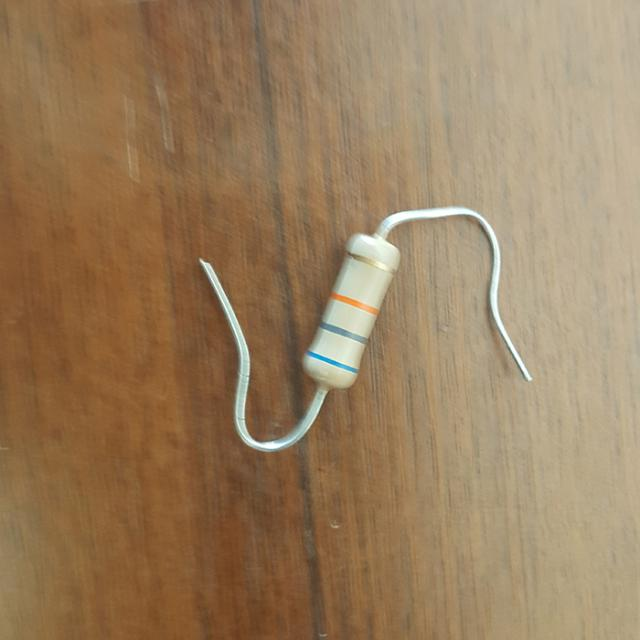blue: (306, 350, 358, 372)
gold: (346, 251, 391, 271)
grey: (321, 321, 368, 344)
orange: (331, 293, 379, 315)
resistor: (290, 207, 412, 405)
